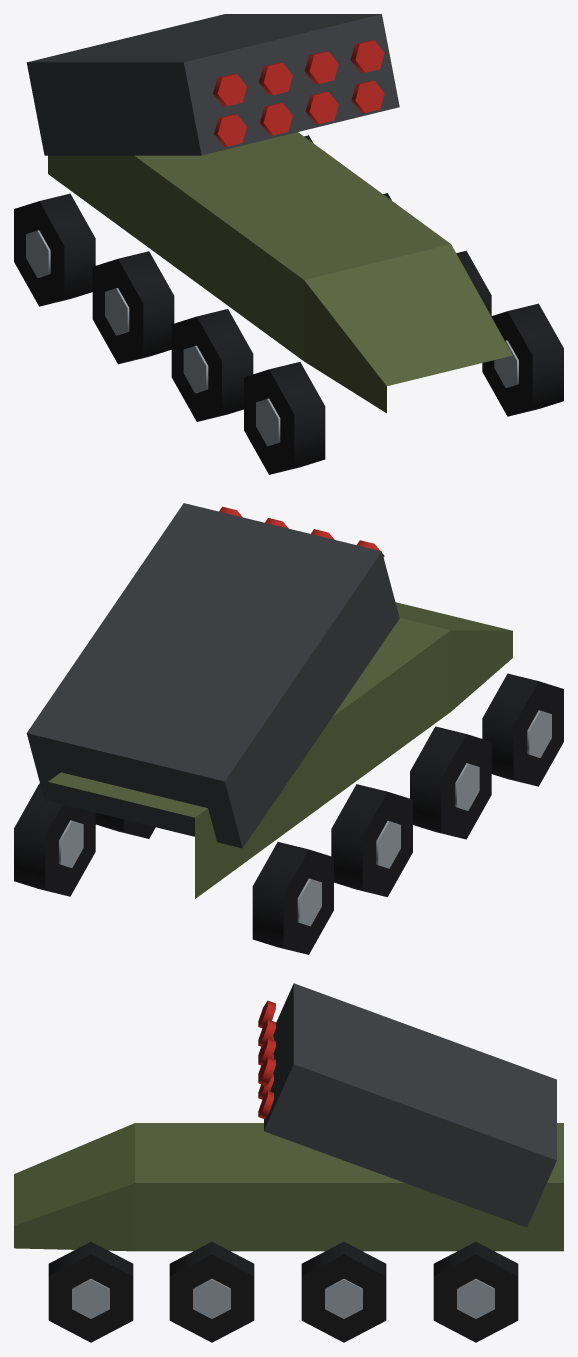
File: veh_ground_rocket_launcher_a06_lod1.glb
3 renders of one model, top to bottom at view 1: azimuth 30°, elevation 25°; view 2: azimuth 150°, elevation 25°; view 3: azimuth 270°, elevation 25°, orthographic. The views are drawn at different scales.
Visible parts, largest first — view 1: body, launcher, wheel_6, wheel_2, wheel_0, wheel_4, wheel_7, wheel_5; view 2: launcher, body, wheel_0, wheel_4, wheel_2, wheel_6, wheel_1, wheel_3; view 3: body, launcher, wheel_1, wheel_3, wheel_5, wheel_7.
Boxes of the visible parts, x1,y1,x2,y2 form: body: [48, 132, 512, 413]; launcher: [26, 14, 399, 155]; wheel_6: [244, 362, 325, 474]; wheel_2: [92, 251, 174, 364]; wheel_0: [14, 193, 95, 306]; wheel_4: [171, 309, 253, 421]; wheel_7: [482, 303, 563, 416]; wheel_5: [456, 250, 491, 316]; launcher: [26, 503, 399, 848]; body: [48, 602, 512, 898]; wheel_0: [252, 842, 333, 954]; wheel_4: [410, 726, 491, 839]; wheel_2: [331, 784, 412, 896]; wheel_6: [482, 673, 563, 786]; wheel_1: [14, 783, 95, 896]; wheel_3: [95, 813, 155, 838]; body: [14, 1123, 563, 1251]; launcher: [258, 983, 556, 1227]; wheel_1: [433, 1242, 518, 1342]; wheel_3: [301, 1242, 386, 1342]; wheel_5: [169, 1242, 254, 1342]; wheel_7: [48, 1242, 133, 1342].
Bounding box in the file's own units: 2.98 × 3.28 × 6.2.
